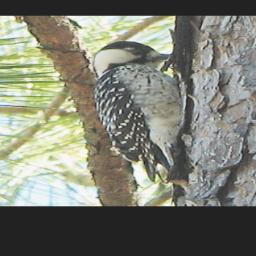Woodpecker: (92, 40, 188, 186)
